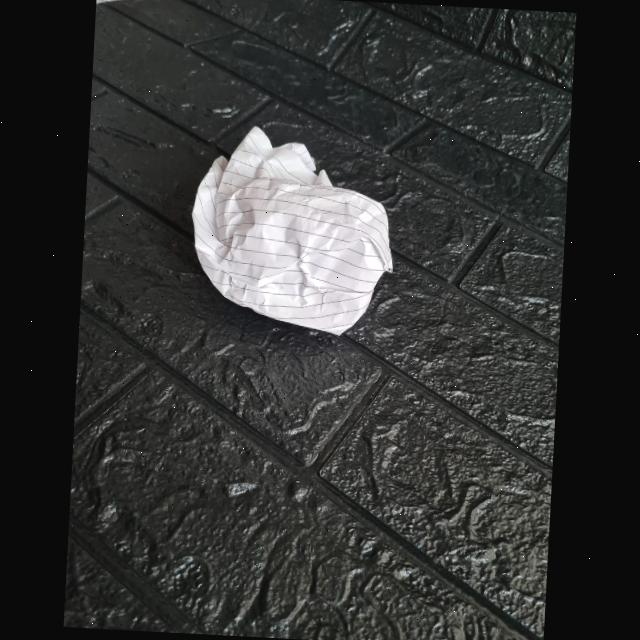trash: (175, 126, 396, 340)
